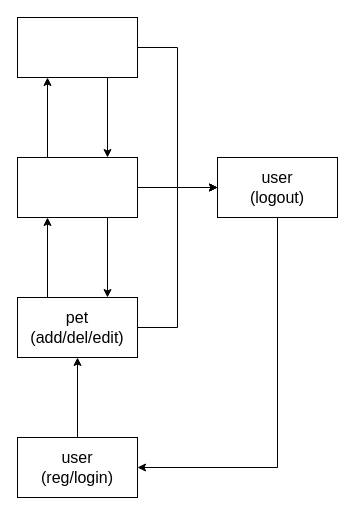
The diagram is 355 pixels wide and 515 high, and some of its shapes have lost their labels. Here are the shapes that lost their labels. From the top down, the centre of each, then its label:
At [77,47]: "user (reactions)".
At [77,187]: "recommends (grade/rec)".
